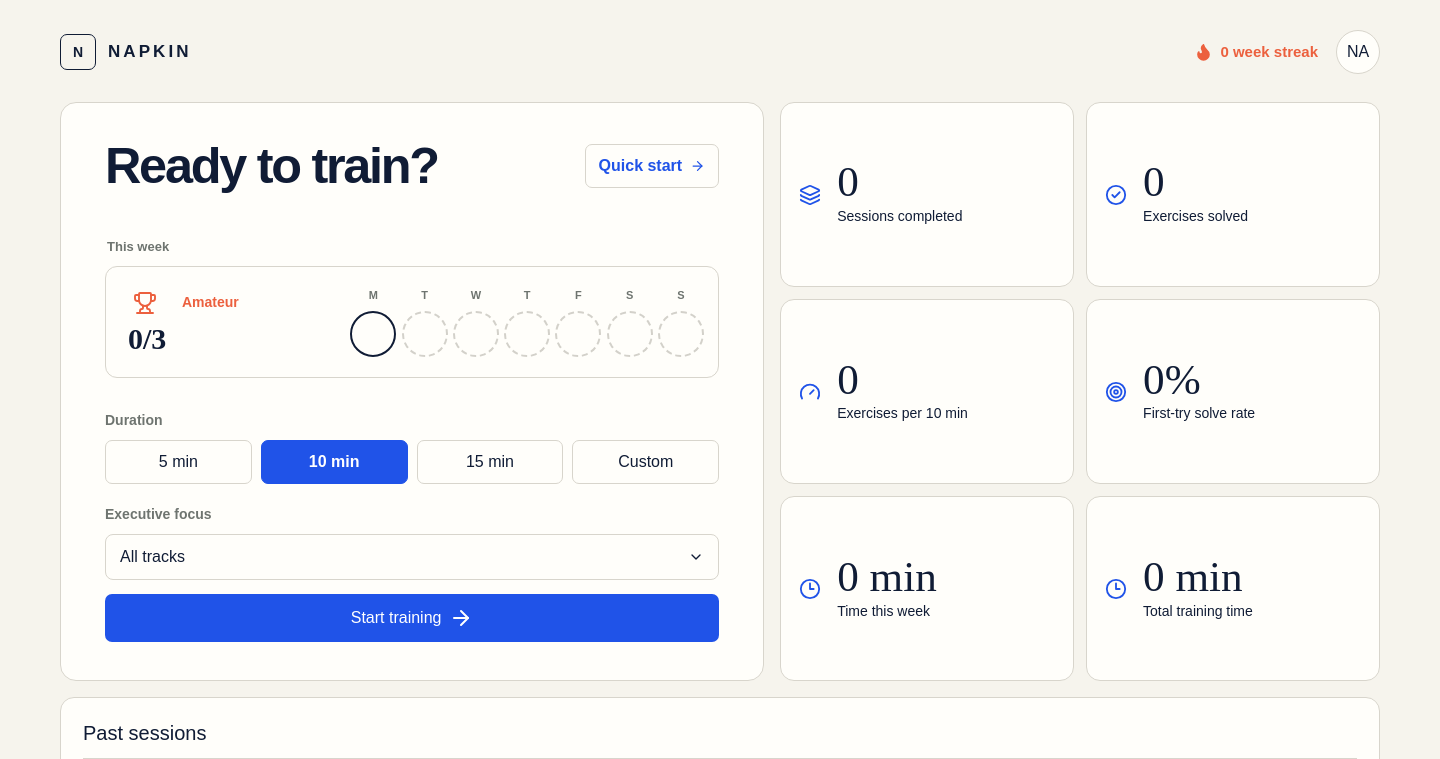
Napkin V1 flow › closes the account menu after clicking outside
This screenshot has width=1440, height=759.
Click the button with aria-label "Open account menu" at (1358, 52), box [1336,30,1380,74]
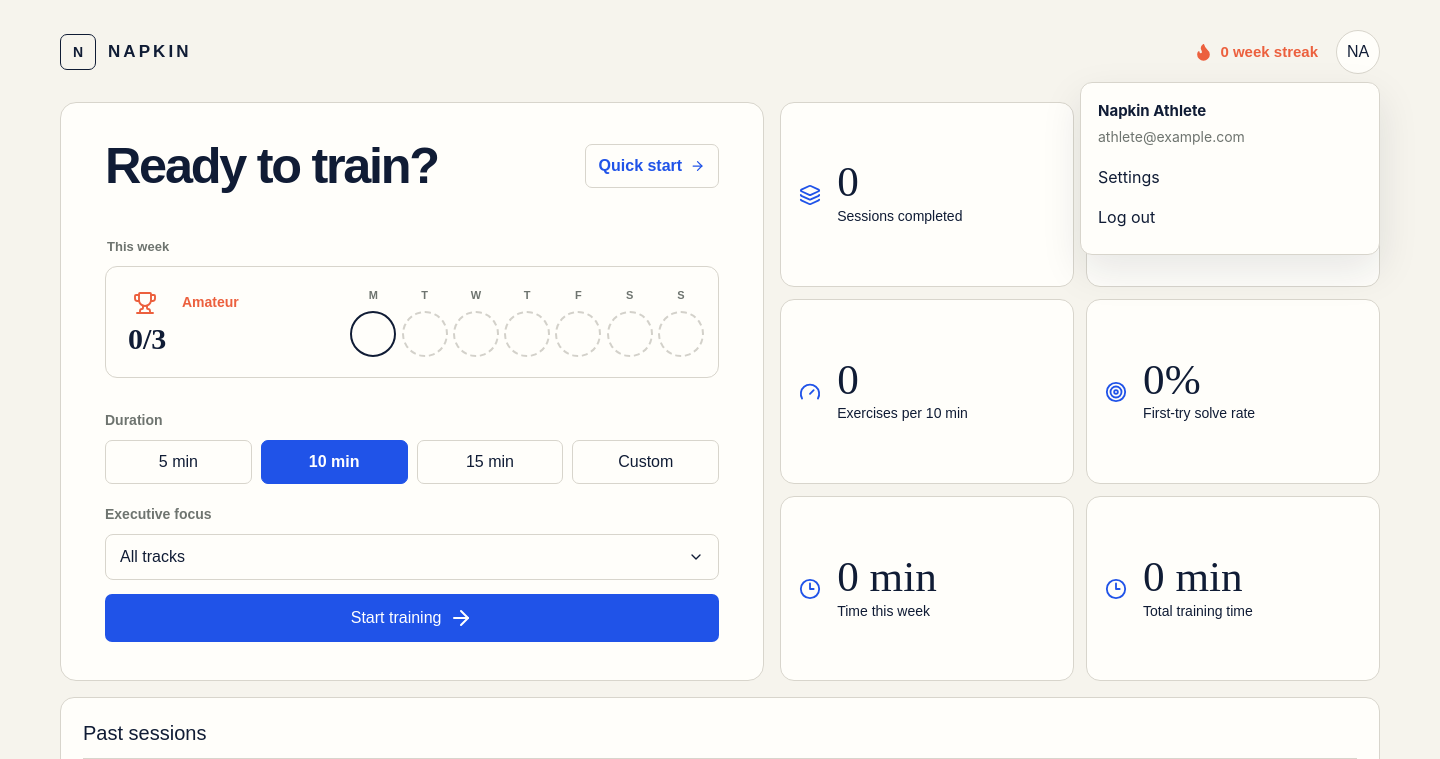
Check: the menu item "Log out" is shown, box [1098,196,1362,236]
Click the heading "Ready to train?" at (271, 166), box [105,141,438,191]
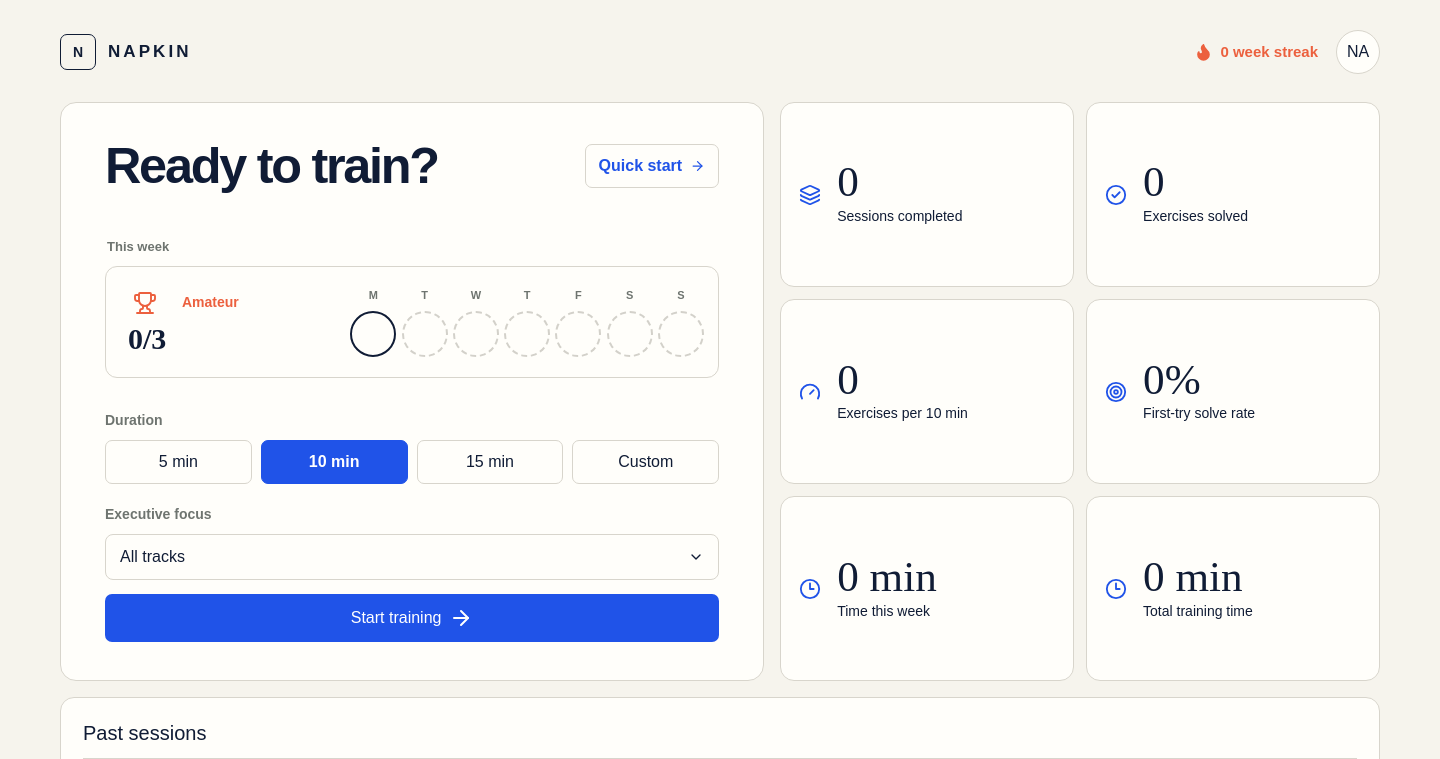
Check: the menu item "Log out" is gone
